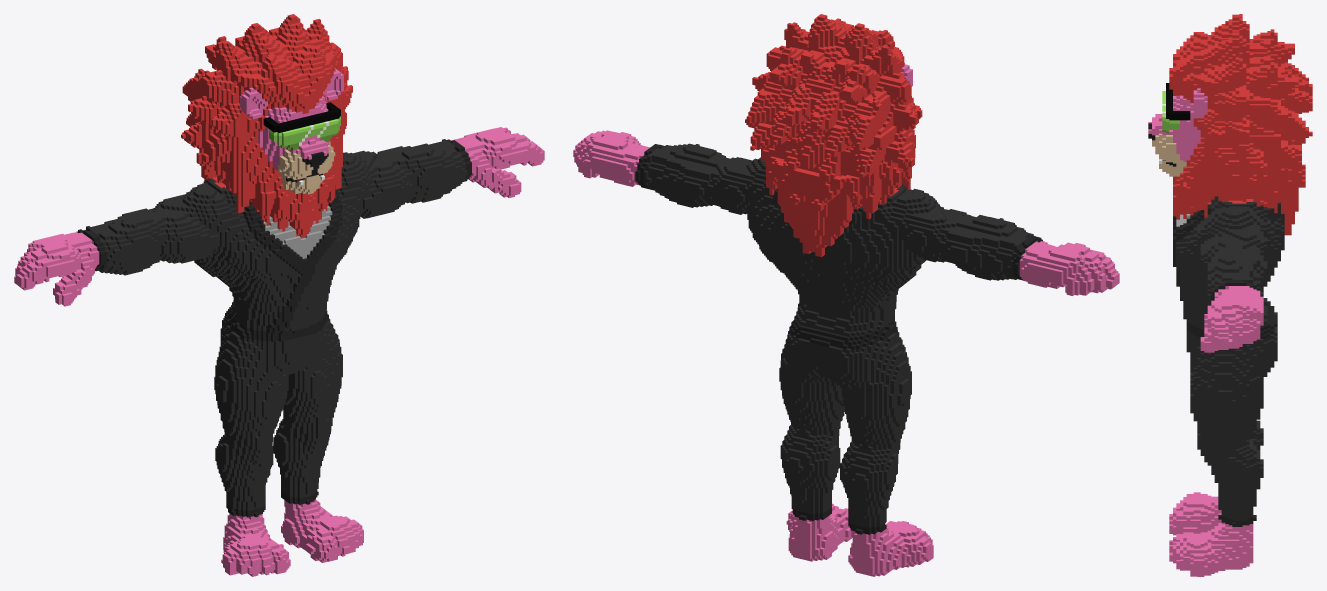
3 views of the same model, side by side, from view 1: azimuth 30°, elevation 25°; view 2: azimuth 150°, elevation 25°; view 3: azimuth 270°, elevation 25° (orthographic). The views are drawn at different scales.
Visible parts, largest first — view 1: standard; view 2: standard; view 3: standard.
Part boxes in pixels (x1,y1,x2,y2): standard: (14,14,544,576); standard: (573,14,1119,576); standard: (1148,14,1312,576).
Bounding box in the file's own units: 17.2 × 16.5 × 4.7.
5 materials, 5 textured.
